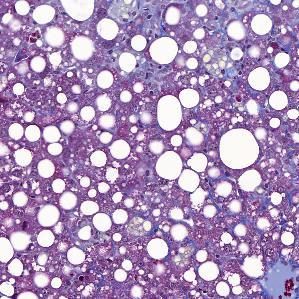fibrosis: (262, 260, 299, 299), (107, 2, 167, 24)
